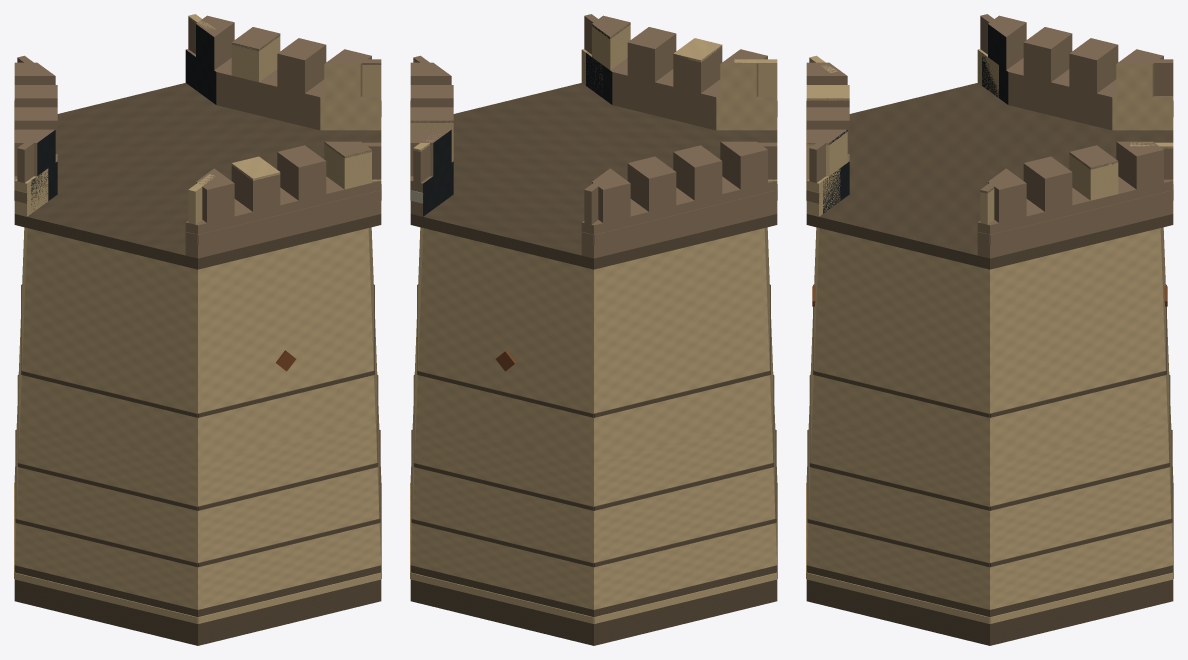
The model's file is Berber_Bastion_Age4_why.fbx.
The picture shows the model from 3 angles, left to right: view 1: azimuth 30°, elevation 25°; view 2: azimuth 150°, elevation 25°; view 3: azimuth 270°, elevation 25°; orthographic projection.
Parts seen in each view (by area): view 1: why_battered_upper, why_battered_lower, why_continuous_walk_floor, why_stone_foot, why_guard_0_0, why_guard_2_0, why_owner_band_2_0, why_merlon_2_0_1, why_merlon_0_0_2, why_merlon_0_0_1, why_merlon_2_0_2, why_merlon_2_0_0 (+24 smaller); view 2: why_battered_upper, why_battered_lower, why_continuous_walk_floor, why_stone_foot, why_guard_2_0, why_guard_4_0, why_owner_band_4_0, why_merlon_2_0_2, why_merlon_2_0_1, why_merlon_4_0_1, why_merlon_4_0_2, why_merlon_4_0_0 (+26 smaller); view 3: why_battered_upper, why_battered_lower, why_continuous_walk_floor, why_stone_foot, why_guard_4_0, why_guard_0_0, why_owner_band_0_0, why_merlon_4_0_1, why_merlon_4_0_2, why_merlon_0_0_1, why_merlon_0_0_2, why_merlon_0_0_0 (+27 smaller).
Part boxes in pixels (x1,y1,x2,y2): why_battered_upper: (20,227,375,463); why_battered_lower: (14,337,381,609); why_continuous_walk_floor: (14,83,381,269); why_stone_foot: (14,565,381,645); why_guard_0_0: (190,51,373,130); why_guard_2_0: (196,176,381,258); why_owner_band_2_0: (198,190,381,245); why_merlon_2_0_1: (277,154,326,200); why_merlon_0_0_2: (277,45,326,93); why_merlon_0_0_1: (231,35,280,82); why_merlon_2_0_2: (231,165,280,211); why_merlon_2_0_0: (324,142,371,189); why_battered_upper: (416,227,771,463); why_battered_lower: (410,337,777,609); why_continuous_walk_floor: (410,83,777,269); why_stone_foot: (410,565,777,645); why_guard_2_0: (586,51,770,130); why_guard_4_0: (592,176,777,258); why_owner_band_4_0: (594,190,777,245); why_merlon_2_0_2: (673,45,722,93); why_merlon_2_0_1: (627,34,676,82); why_merlon_4_0_1: (673,152,722,200); why_merlon_4_0_2: (627,164,676,211); why_merlon_4_0_0: (720,143,767,189); why_battered_upper: (812,227,1167,463); why_battered_lower: (806,337,1173,609); why_continuous_walk_floor: (806,83,1173,269); why_stone_foot: (806,565,1173,645); why_guard_4_0: (982,53,1164,130); why_guard_0_0: (989,176,1173,258); why_owner_band_0_0: (990,190,1173,245); why_merlon_4_0_1: (1023,34,1072,82); why_merlon_4_0_2: (1069,45,1118,93); why_merlon_0_0_1: (1069,153,1118,200); why_merlon_0_0_2: (1023,165,1072,211); why_merlon_0_0_0: (1116,144,1163,189).
Size of the model in its own units: 695 by 820 by 603.
4 materials, 4 textured.
